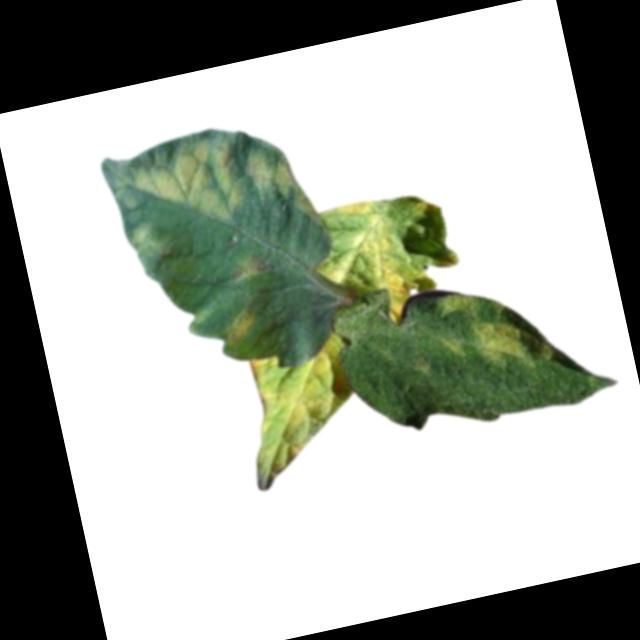Leaf_Mold: (108, 121, 297, 242), (232, 337, 374, 492), (307, 209, 430, 340), (471, 307, 556, 382), (129, 218, 176, 274), (434, 286, 486, 324), (229, 249, 275, 286), (224, 307, 264, 349), (336, 197, 378, 221)
